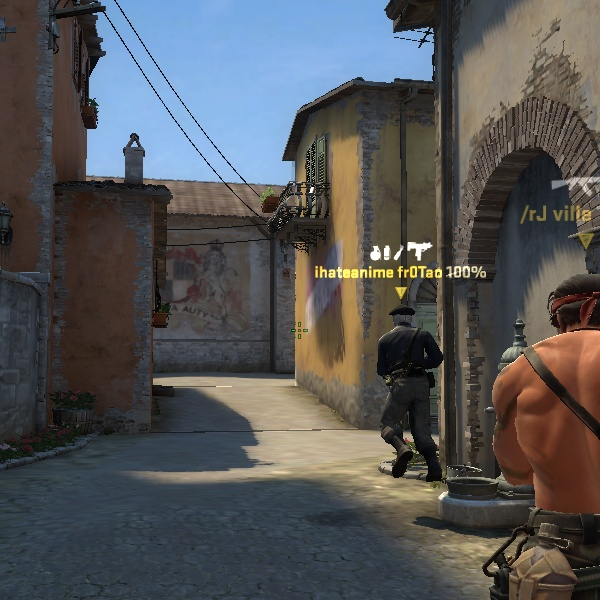t_body: (461, 261, 587, 600), (358, 304, 457, 483)
t_head: (534, 262, 600, 363)
